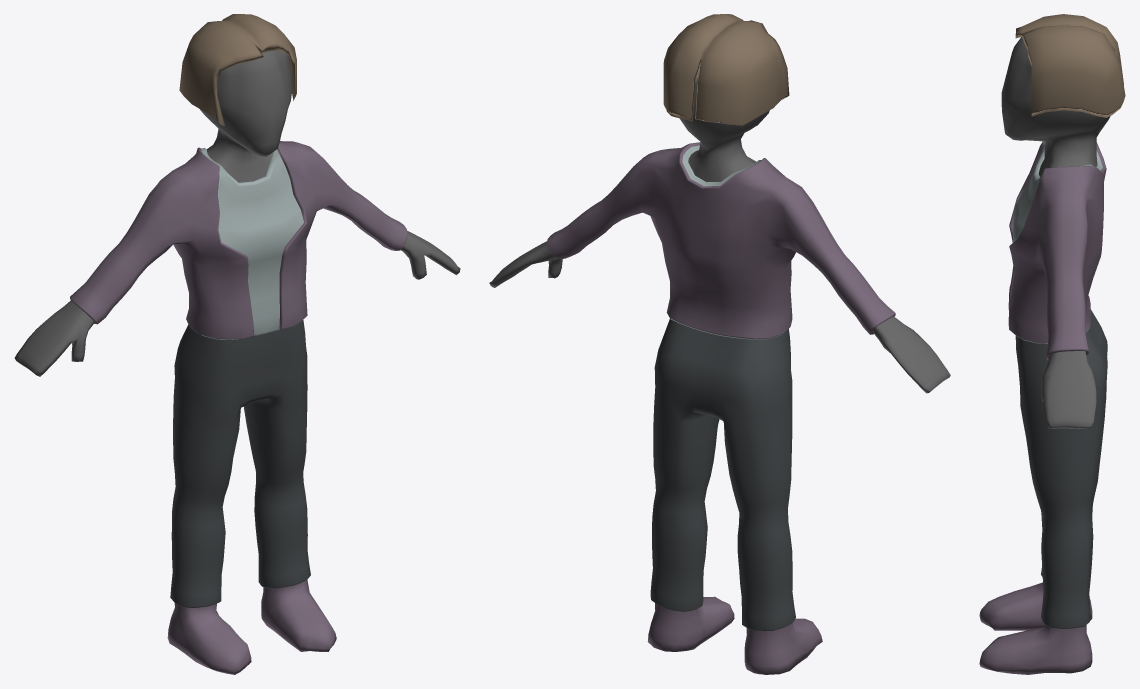
The model's file is PS_Karen.fbx.
3 views of the same model, side by side, from view 1: azimuth 30°, elevation 25°; view 2: azimuth 150°, elevation 25°; view 3: azimuth 270°, elevation 25° (orthographic). The views are drawn at different scales.
Visible parts, largest first — view 1: PS_Karen; view 2: PS_Karen; view 3: PS_Karen.
Part boxes in pixels (x1,y1,x2,y2): PS_Karen: [14, 14, 460, 674]; PS_Karen: [489, 14, 950, 674]; PS_Karen: [979, 14, 1125, 674].
Size of the model in its own units: 1.21 by 1.65 by 0.3513.
